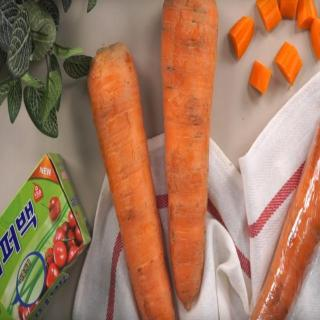carrot: (88, 40, 176, 320), (159, 0, 221, 312), (229, 0, 320, 95)
